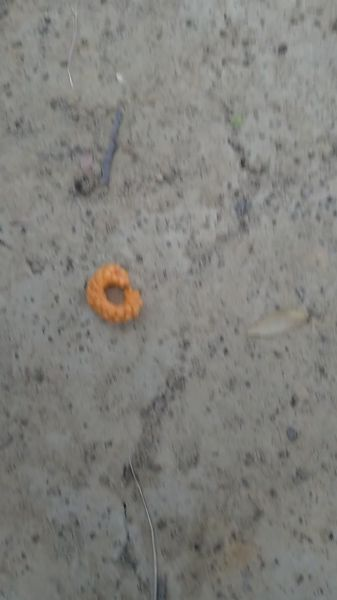eggs: (82, 256, 152, 329)
